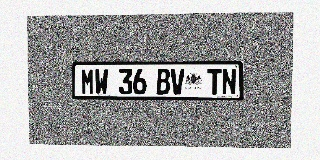3: (119, 69, 132, 95)
6: (133, 69, 146, 95)
B: (156, 69, 170, 95)
M: (81, 69, 94, 94)
N: (222, 68, 236, 95)
T: (207, 68, 221, 95)
V: (171, 69, 184, 95)
W: (95, 69, 108, 94)
